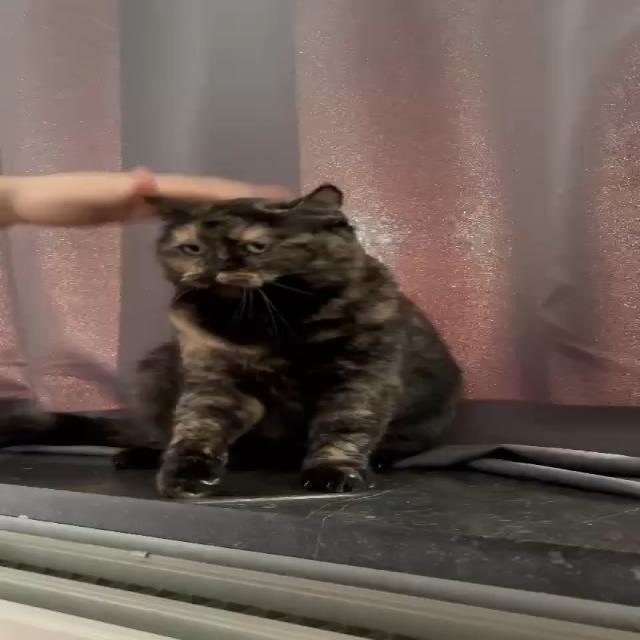authorized: (126, 182, 466, 499)
